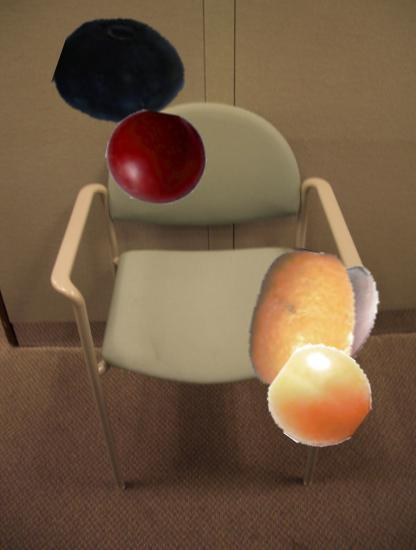Blueberry: (58, 8, 186, 136)
Cherry: (270, 347, 372, 449), (106, 107, 207, 208)
Hazelnut: (271, 259, 403, 391)
Kumquats: (229, 250, 377, 398)
